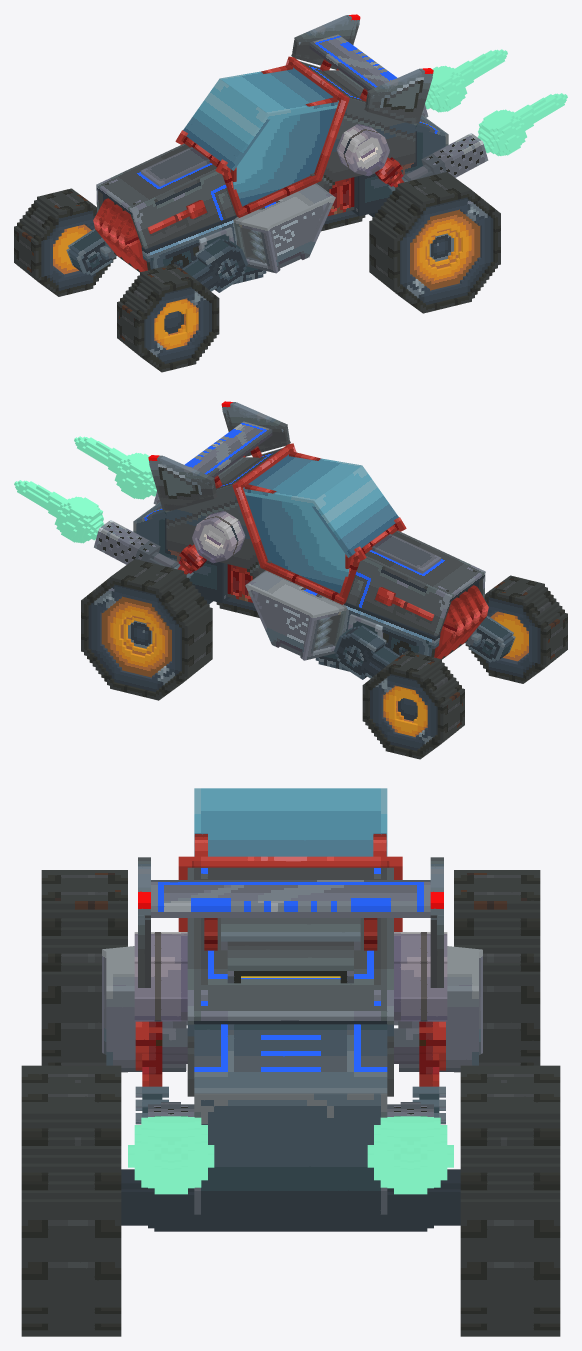
Rendered from 汽车模板发光-1.gltf.
3 renders of one model, top to bottom at view 1: azimuth 30°, elevation 25°; view 2: azimuth 150°, elevation 25°; view 3: azimuth 270°, elevation 25°, orthographic. The views are drawn at different scales.
Visible parts, largest first — view 1: 车身, 后轮, 前轮, Group-2, Group, 喷气, Group-1, Group-4, 后轮避震器; view 2: 车身, 后轮, 前轮, Group-2, Group, 喷气, Group-1, Group-4, 后轮避震器; view 3: 车身, 后轮, 前轮, Group-2, 喷气, Group (×2), Group-4 (×2), 后轮避震器 (×2), Group-3.
Part boxes in pixels (x1=…): 车身: x1=66, y1=56, x2=488, y2=292; 后轮: x1=321, y1=172, x2=500, y2=313; 前轮: x1=14, y1=188, x2=219, y2=372; Group-2: x1=291, y1=14, x2=433, y2=123; Group: x1=233, y1=183, x2=335, y2=273; 喷气: x1=425, y1=49, x2=567, y2=156; Group-1: x1=93, y1=198, x2=147, y2=271; Group-4: x1=336, y1=124, x2=389, y2=176; 后轮避震器: x1=375, y1=157, x2=407, y2=191; 车身: x1=94, y1=443, x2=515, y2=679; 后轮: x1=81, y1=559, x2=259, y2=700; 前轮: x1=362, y1=575, x2=567, y2=759; Group-2: x1=148, y1=401, x2=290, y2=510; Group: x1=245, y1=570, x2=347, y2=660; 喷气: x1=14, y1=436, x2=156, y2=543; Group-1: x1=434, y1=585, x2=488, y2=659; Group-4: x1=192, y1=511, x2=245, y2=563; 后轮避震器: x1=174, y1=544, x2=206, y2=578; 车身: x1=121, y1=788, x2=460, y2=1231; 后轮: x1=21, y1=1065, x2=560, y2=1336; 前轮: x1=41, y1=870, x2=540, y2=1072; Group-2: x1=138, y1=857, x2=443, y2=987; 喷气: x1=128, y1=1116, x2=453, y2=1194; Group (×2): x1=102, y1=946, x2=482, y2=1071; Group-4 (×2): x1=134, y1=932, x2=447, y2=1021; 后轮避震器 (×2): x1=135, y1=1021, x2=445, y2=1187; Group-3: x1=204, y1=918, x2=377, y2=950.
Bounding box in the file's own units: 160 × 71.08 × 81.
Materials: 1 (1 with a texture image).
